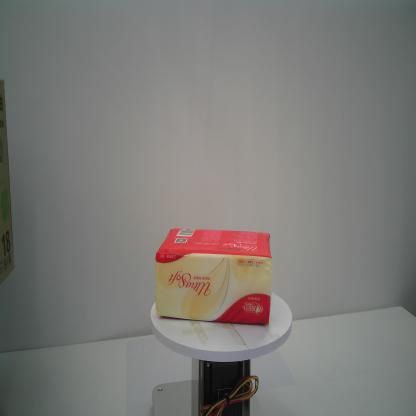Tissue: (155, 227, 272, 325)
